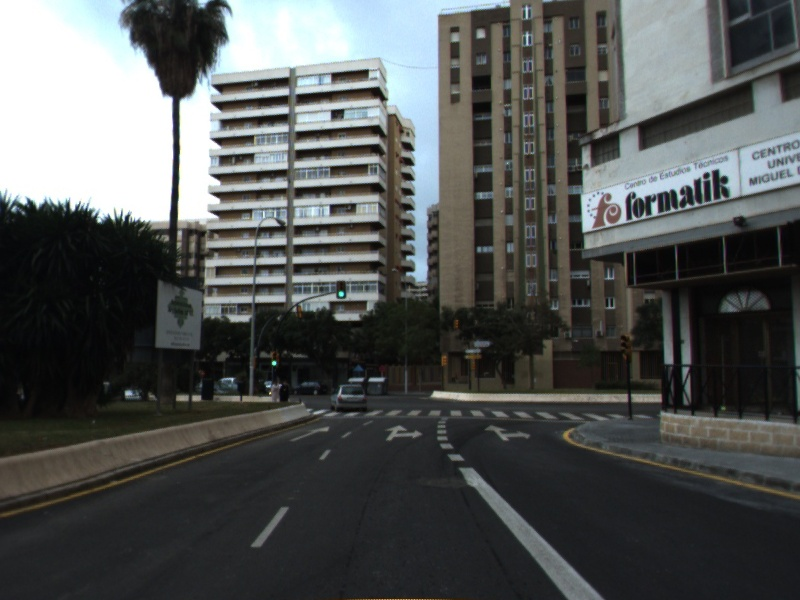STRAIGHT: (287, 424, 331, 443)
STRAIGHT_RIGHT: (482, 422, 533, 443), (382, 423, 425, 442)
